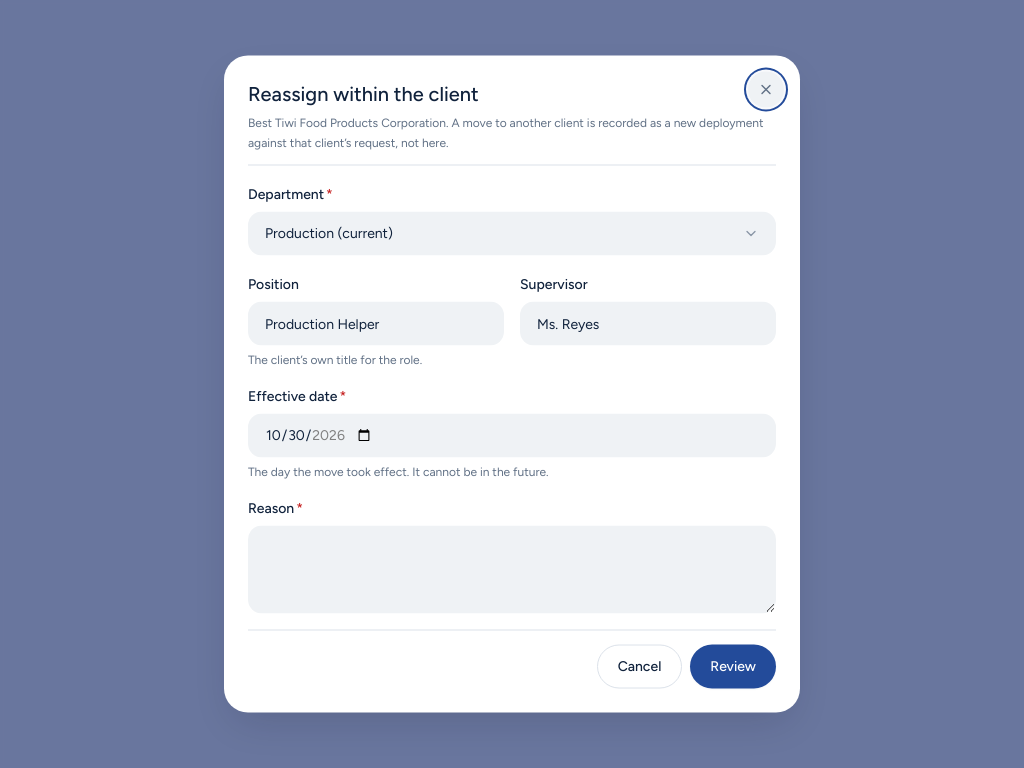
Test: ReassignDialog › asks for a reason before the review
Click the dropdown named "department" at (299,233), box [248,212,776,256]
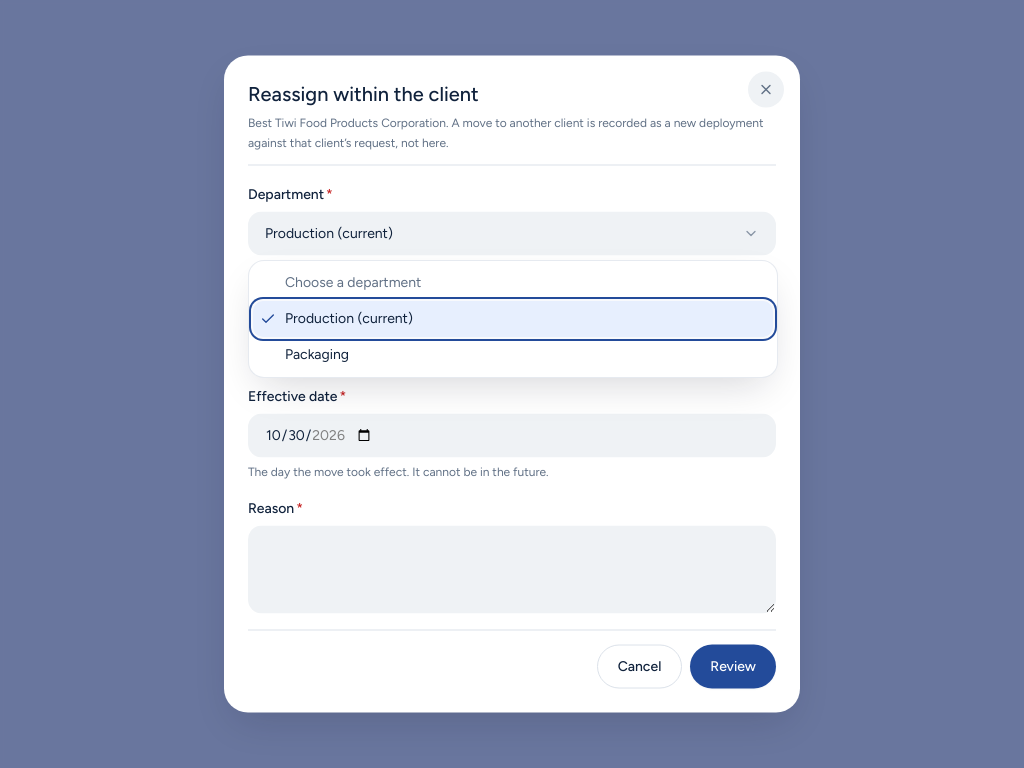
Click the option "Packaging" at (317,354), box [285,346,349,363]
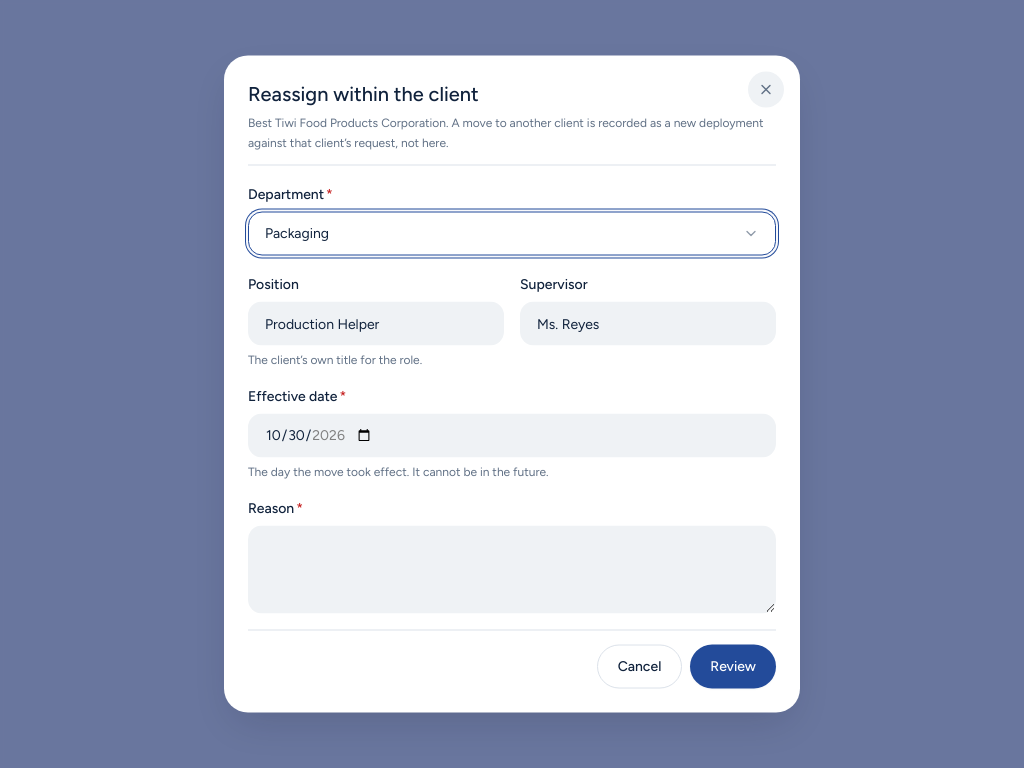
Click the button "Review" at (733,666), box [690,644,776,688]
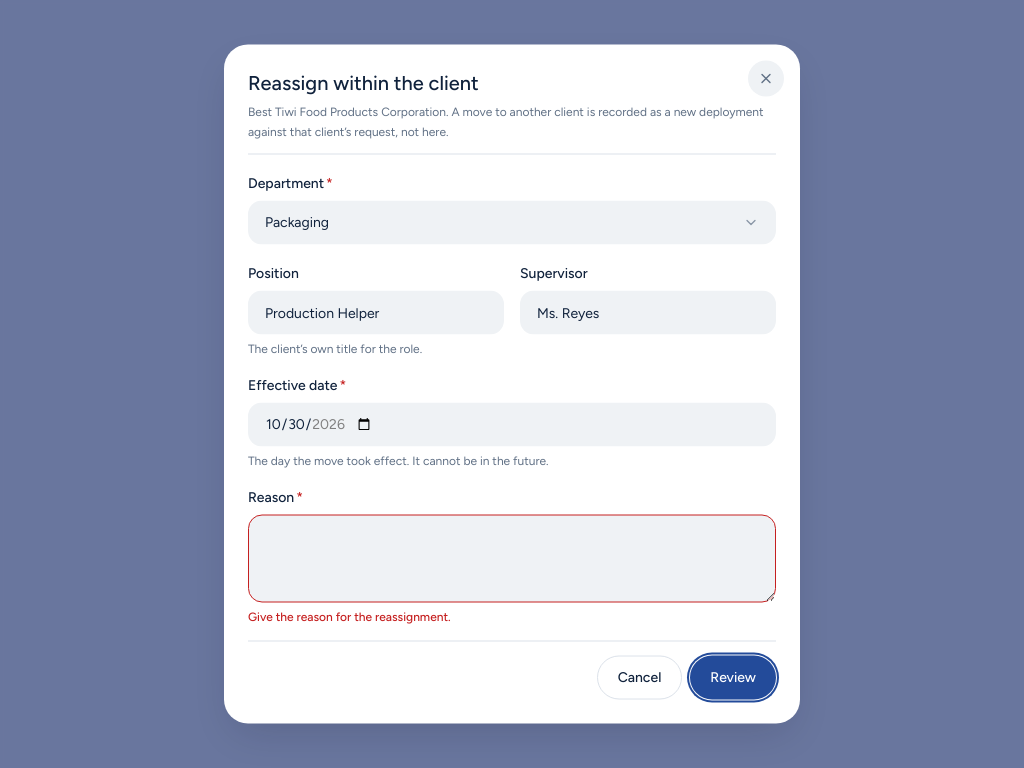
Check: the text "Give the reason for the reassignment." is shown, box [248,610,451,624]
